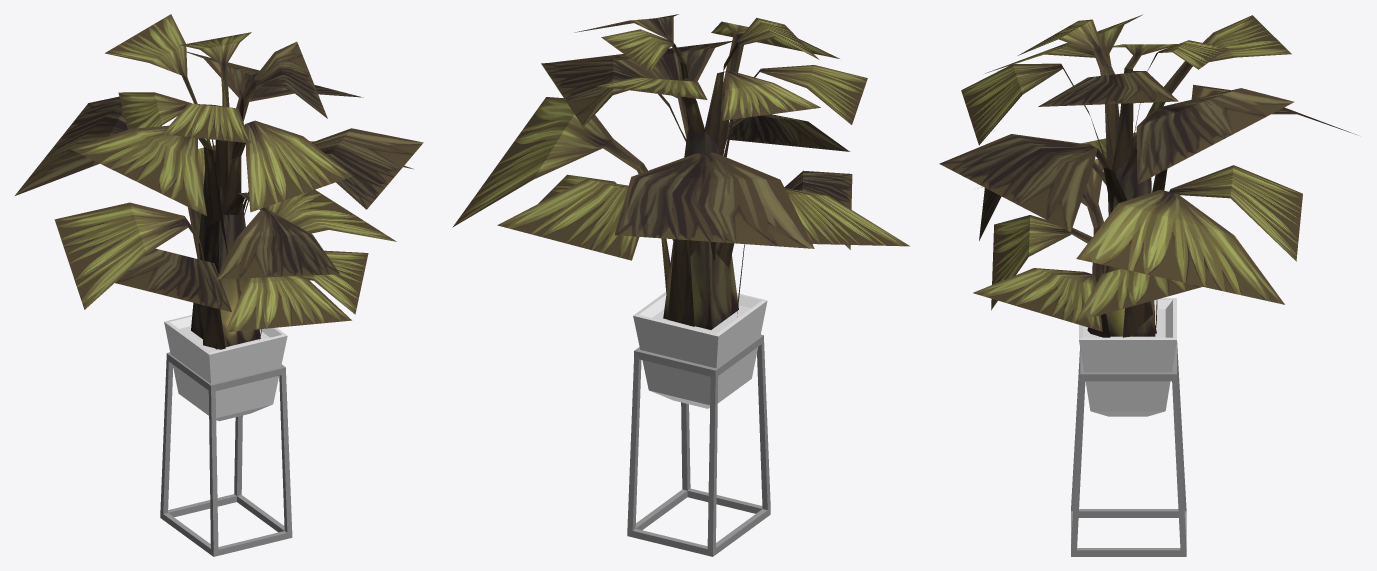
Rendered from Plant.fbx.
3 renders of one model, left to right at view 1: azimuth 30°, elevation 25°; view 2: azimuth 150°, elevation 25°; view 3: azimuth 270°, elevation 25°, orthographic. The views are drawn at different scales.
Visible parts, largest first — view 1: Plant; view 2: Plant; view 3: Plant.
Part boxes in pixels (x1,y1,x2,y2): Plant: (15, 14, 423, 556); Plant: (452, 14, 909, 556); Plant: (939, 14, 1357, 556).
Bounding box in the file's own units: 15.14 × 19.73 × 15.1.
3 materials, 1 textured.
